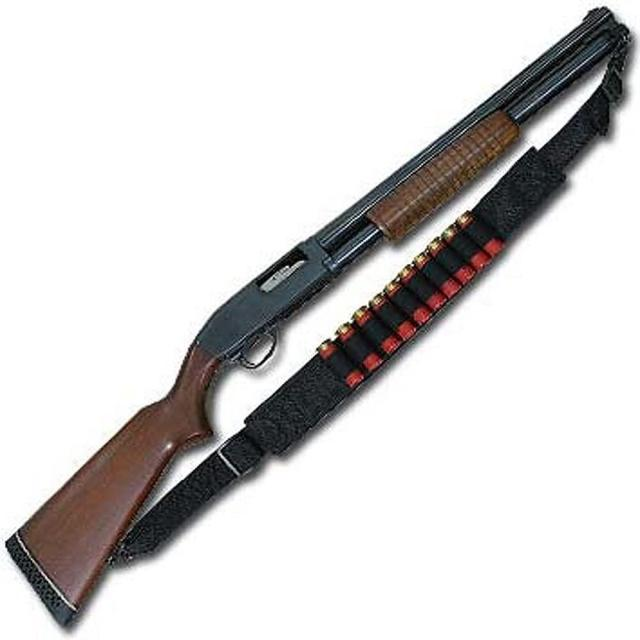weapon: (2, 4, 637, 633)
